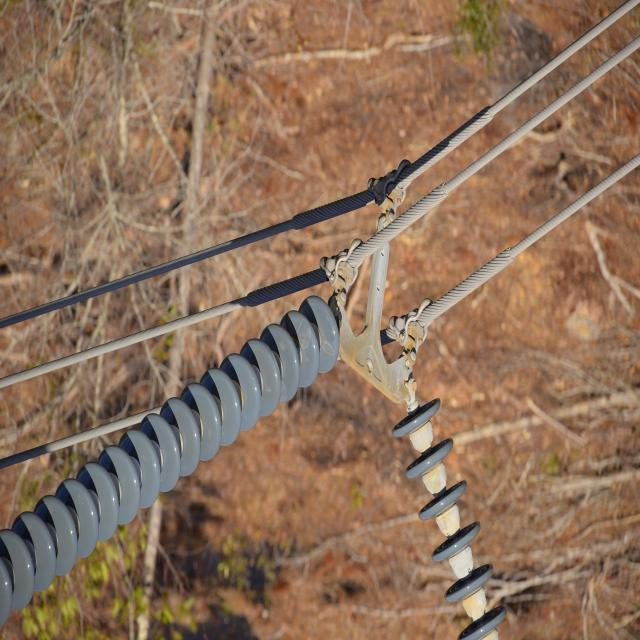insulator: (0, 295, 340, 621), (392, 399, 505, 638)
